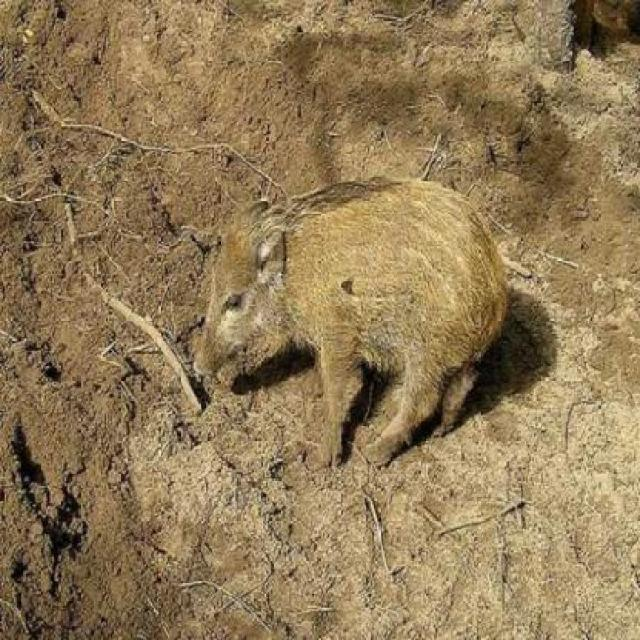pig: (111, 115, 592, 522)
